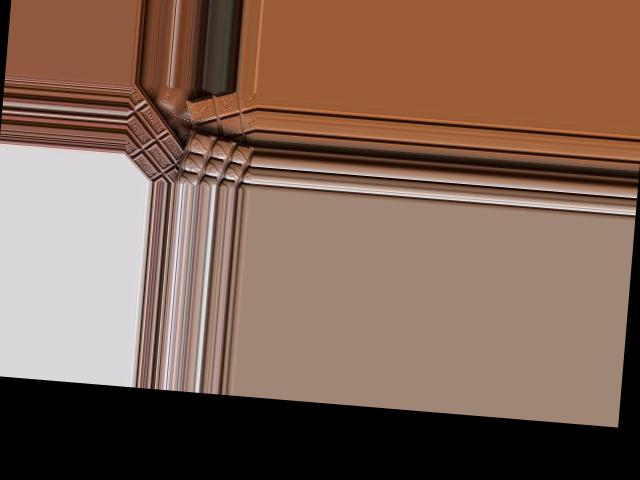chocolate: (183, 93, 258, 155)
